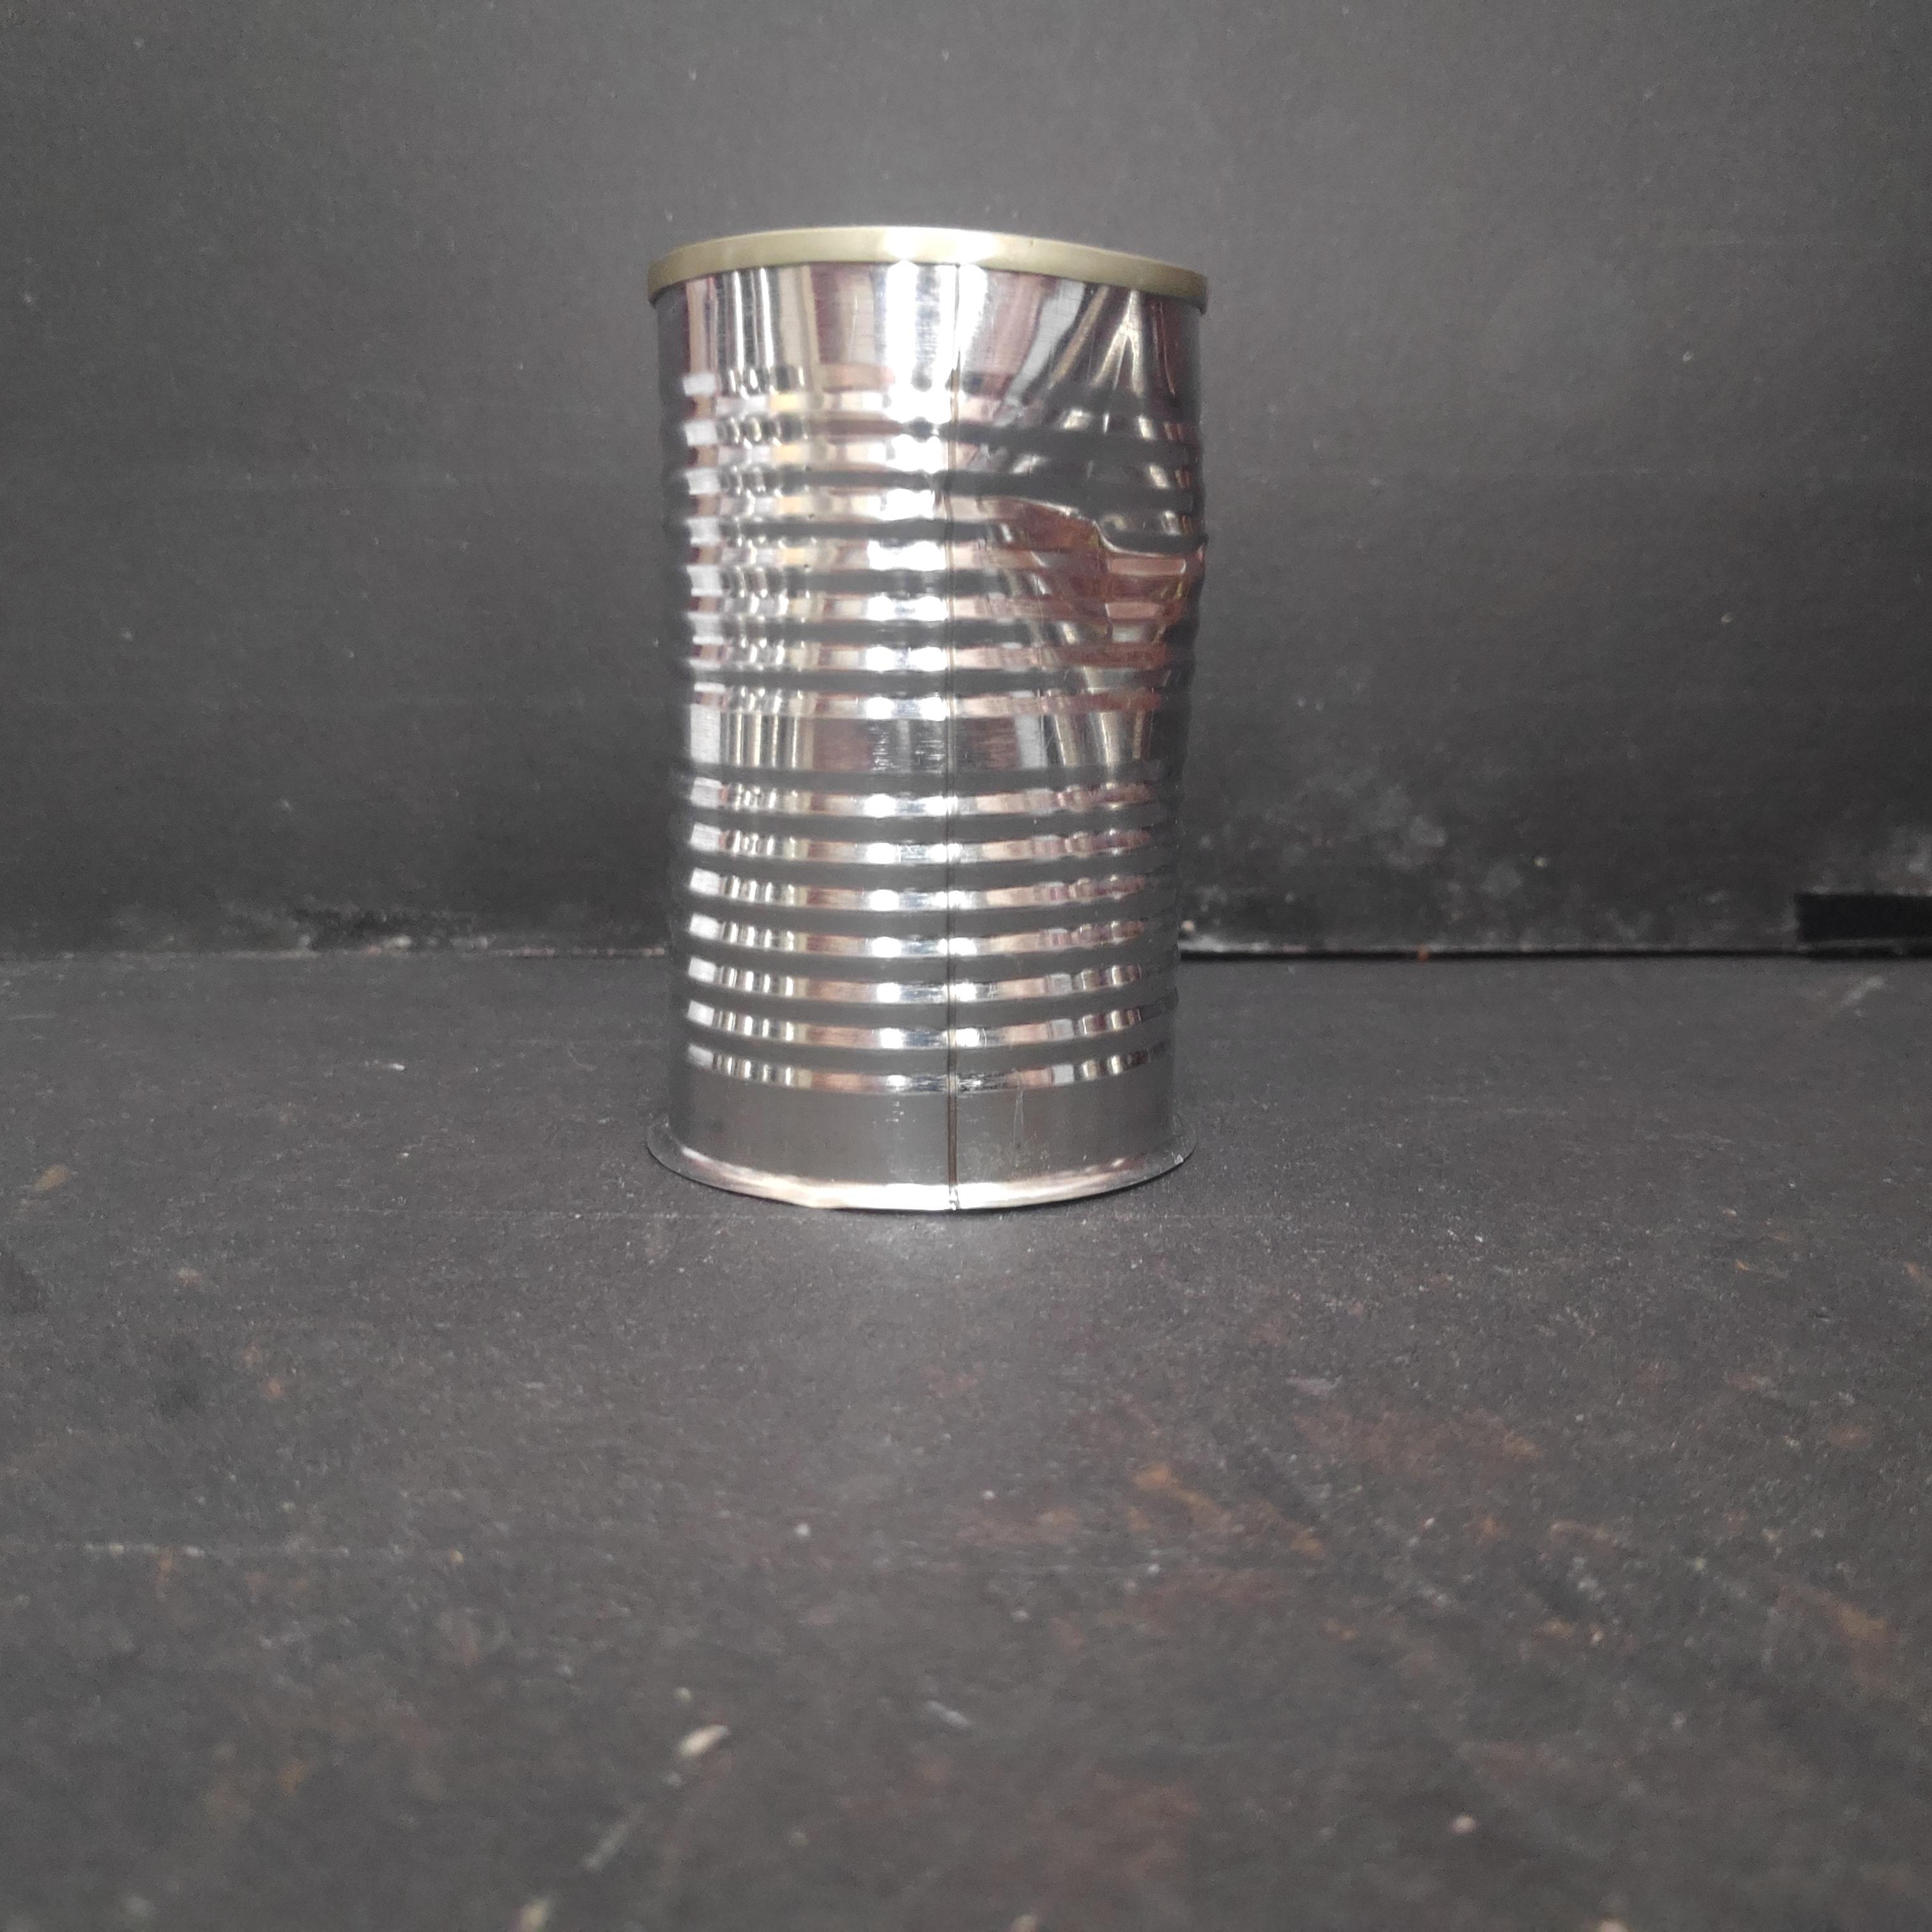Minor Defect: (644, 209, 1224, 1244)
